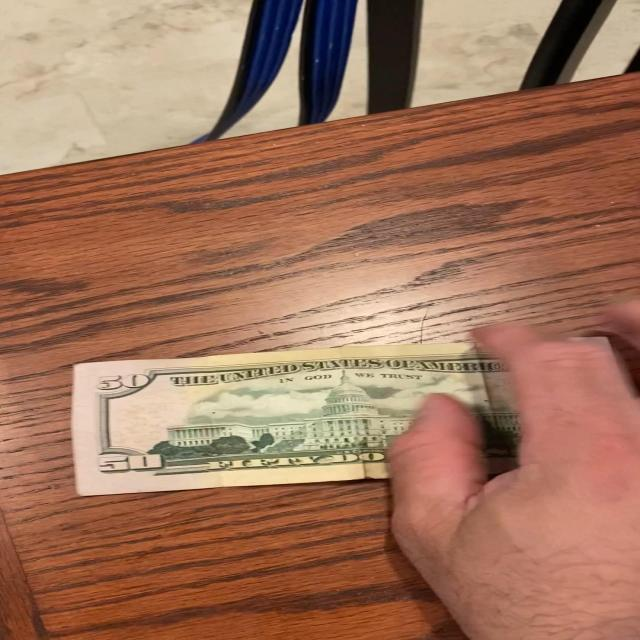50-Back: (57, 341, 622, 502)
